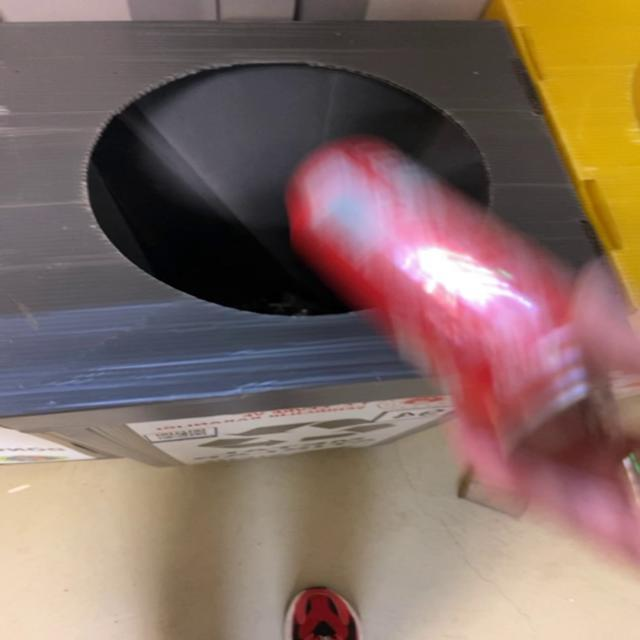Bin: (1, 21, 602, 466)
Metal: (288, 137, 589, 430)
